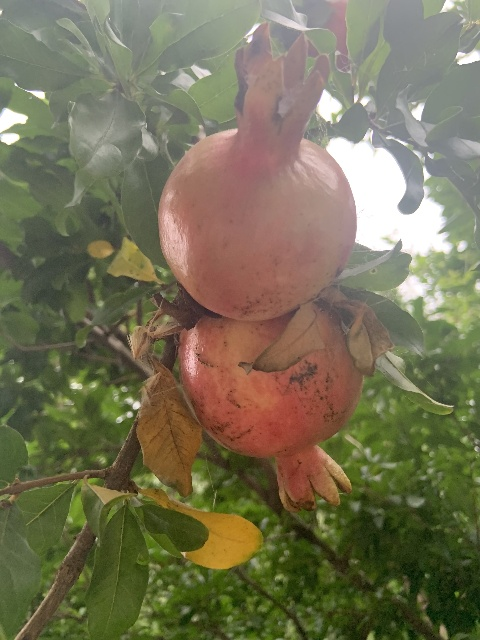ripe: (158, 21, 357, 321), (178, 309, 363, 511)
